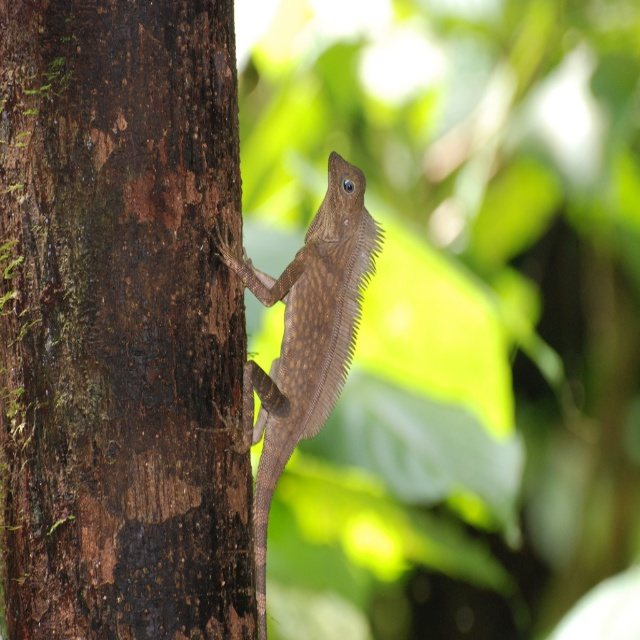Lizard: (239, 145, 389, 583)
